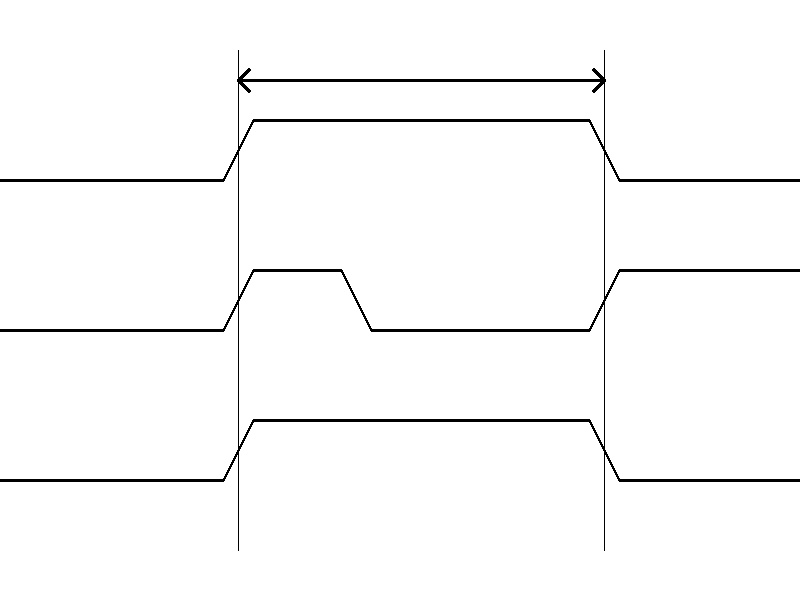double_arrow: (238, 65, 604, 95)
